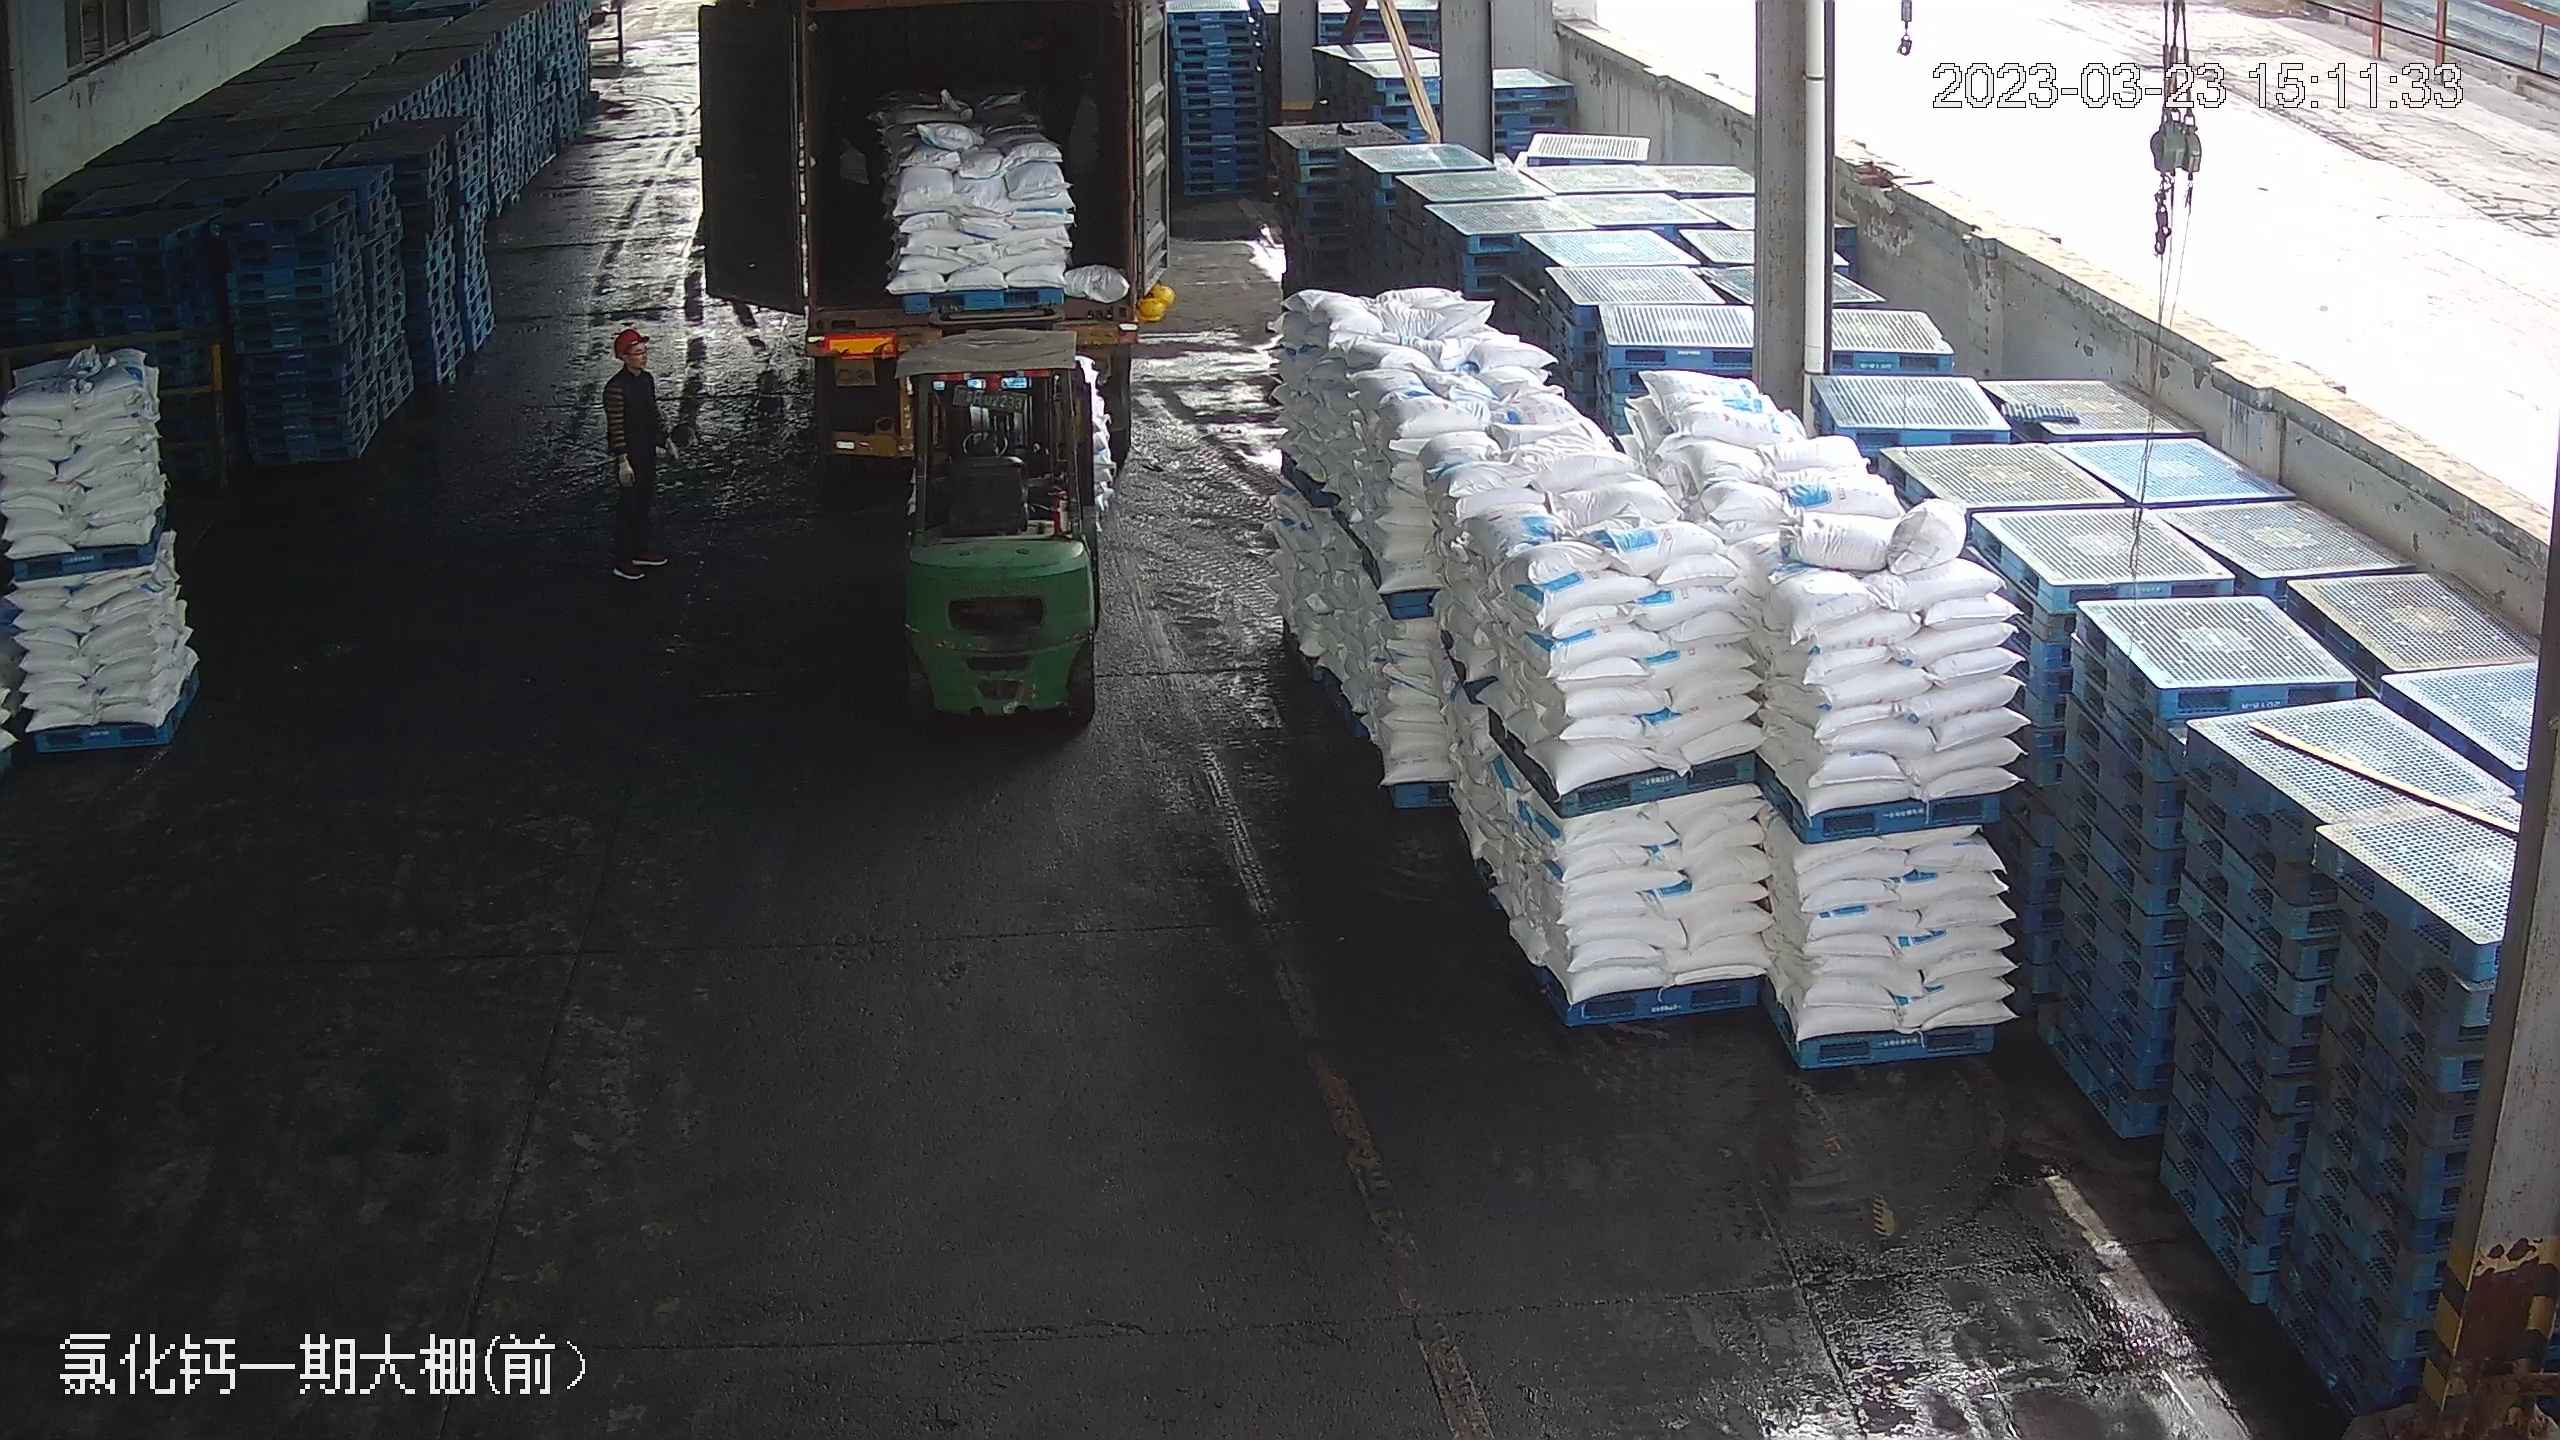head: (601, 321, 661, 405)
helmet: (610, 322, 645, 350), (1136, 296, 1166, 321), (1152, 281, 1174, 305)
people: (597, 323, 676, 592)
